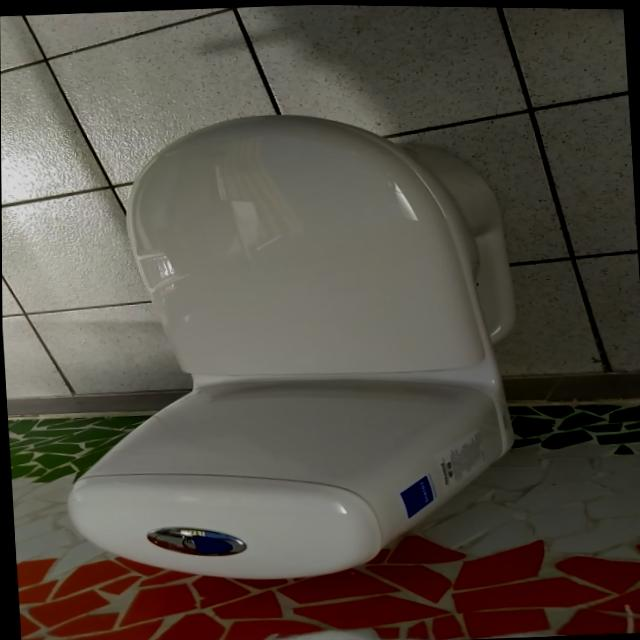toilet: (43, 99, 530, 593)
